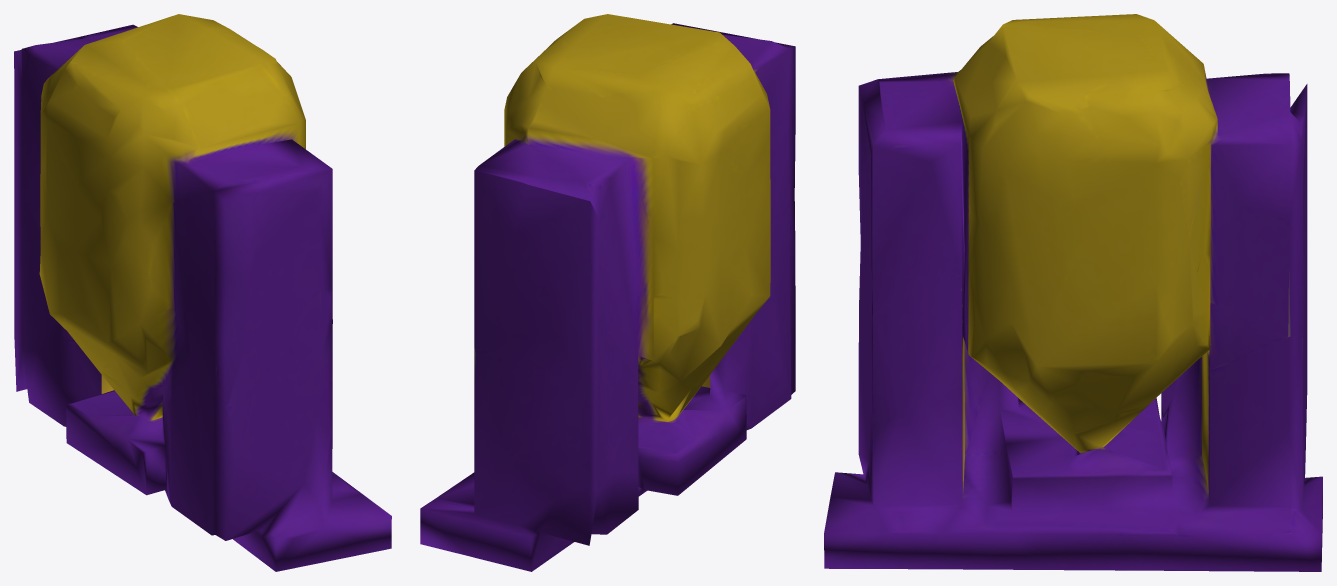
Rendered from textures.glb.
The picture shows the model from 3 angles, left to right: view 1: azimuth 30°, elevation 25°; view 2: azimuth 150°, elevation 25°; view 3: azimuth 270°, elevation 25°; orthographic projection. The views are drawn at different scales.
Visible parts, largest first — view 1: tripo_node_0c5281af-d58e-4d00-a575-b578584f7036; view 2: tripo_node_0c5281af-d58e-4d00-a575-b578584f7036; view 3: tripo_node_0c5281af-d58e-4d00-a575-b578584f7036.
Part boxes in pixels (left/top/right/bottom): tripo_node_0c5281af-d58e-4d00-a575-b578584f7036: left=14, top=14, right=391, bottom=571; tripo_node_0c5281af-d58e-4d00-a575-b578584f7036: left=420, top=14, right=795, bottom=571; tripo_node_0c5281af-d58e-4d00-a575-b578584f7036: left=824, top=14, right=1322, bottom=571.
Bounding box in the file's own units: 0.5044 × 1 × 0.9635.
Materials: 1 (1 with a texture image).
